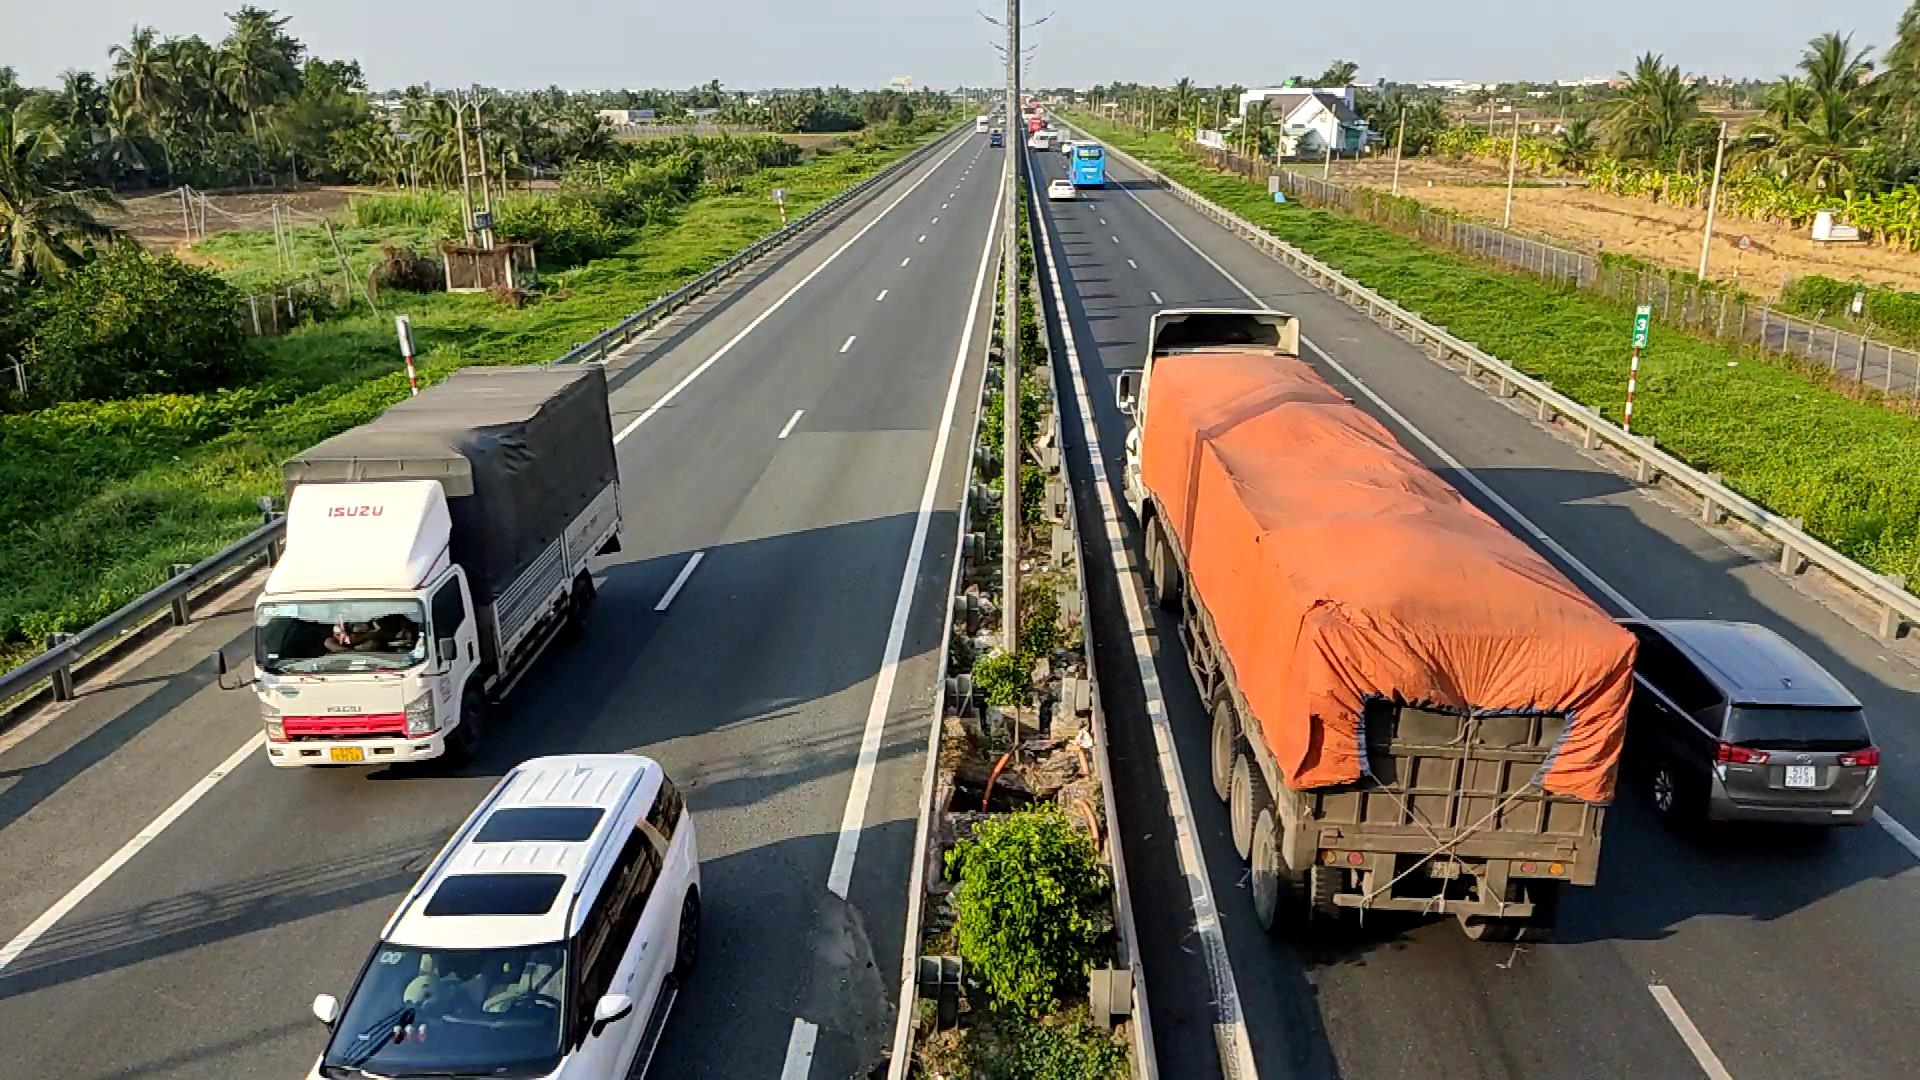car: (306, 749, 705, 1069), (1611, 616, 1883, 841)
truck: (1122, 295, 1636, 943), (251, 359, 622, 771)
